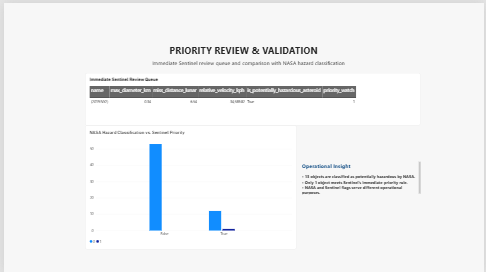

The page's visual inventory and layout, read from the dashboard file:
{"tool":"powerbi","page":{"name":"Priority Review","canvas":[1920,1080],"ordinal":1},"visuals":[{"type":"tableEx","title":"Immediate Sentinel Review Queue","fields":{"Values":["clean_data.name","clean_data.max_diameter_km","clean_data.miss_distance_lunar","clean_data.relative_velocity_kph","clean_data.is_potentially_hazardous_asteroid","clean_data.priority_watch"]},"box":[325,280,1340,210],"z":0},{"type":"clusteredColumnChart","title":"NASA Hazard Classification vs. Sentinel Priority","fields":{"Category":["clean_data.is_potentially_hazardous_asteroid"],"Series":["clean_data.priority_watch"],"Y":["clean_data.Total NEOs"]},"box":[325,490,845,495],"z":1},{"type":"textbox","box":[288,165.3,1338,96],"z":2},{"type":"textbox","box":[288.6,225.7,1375.7,35.7],"z":3},{"type":"textbox","box":[1188,606,478,204],"z":5}]}

Visuals, with their boxes in screenshot pixels (x1, y1, x2, y2), scaled from the page's 1920x1080 canvas onto the 486x272 screenshot:
"Immediate Sentinel Review Queue" tableEx: bbox(82, 71, 421, 123)
"NASA Hazard Classification vs. Sentinel Priority" clusteredColumnChart: bbox(82, 123, 296, 248)
textbox: bbox(73, 42, 412, 66)
textbox: bbox(73, 57, 421, 66)
textbox: bbox(301, 153, 422, 204)
